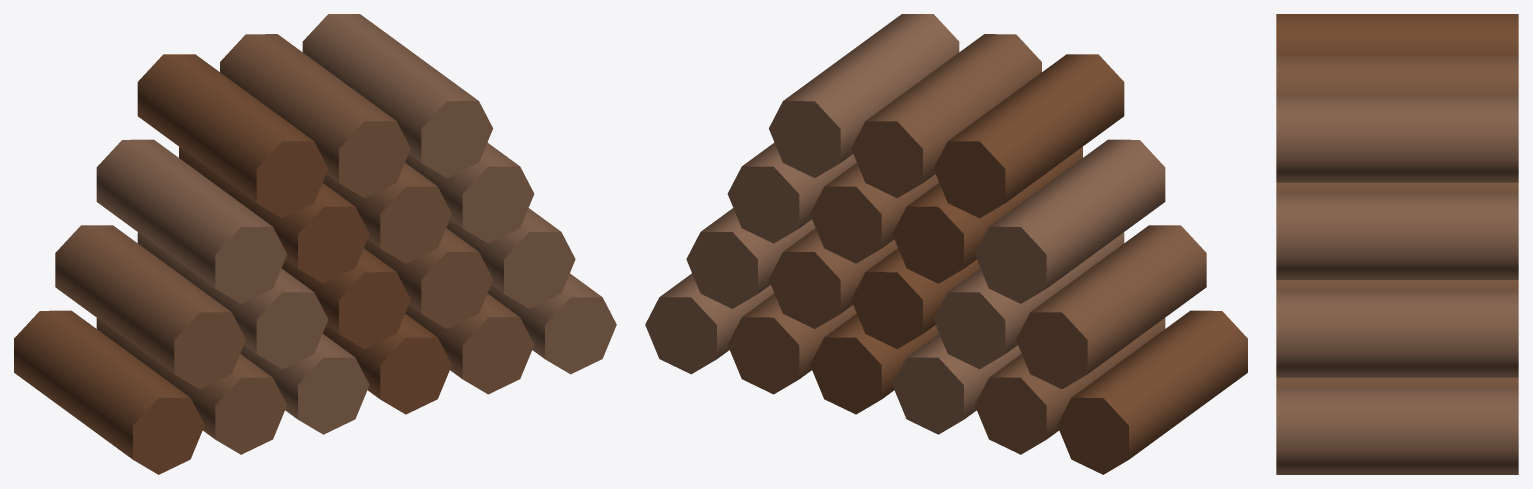
Rendered from woodpile.glb.
3 views of the same model, side by side, from view 1: azimuth 30°, elevation 25°; view 2: azimuth 150°, elevation 25°; view 3: azimuth 270°, elevation 25° (orthographic).
Visible parts, largest first — view 1: body; view 2: body; view 3: body.
Part boxes in pixels (x1,y1,x2,y2): body: (14,14,616,474); body: (645,14,1247,474); body: (1276,14,1518,474).
Bounding box in the file's own units: 1.41 × 0.8445 × 0.6.
